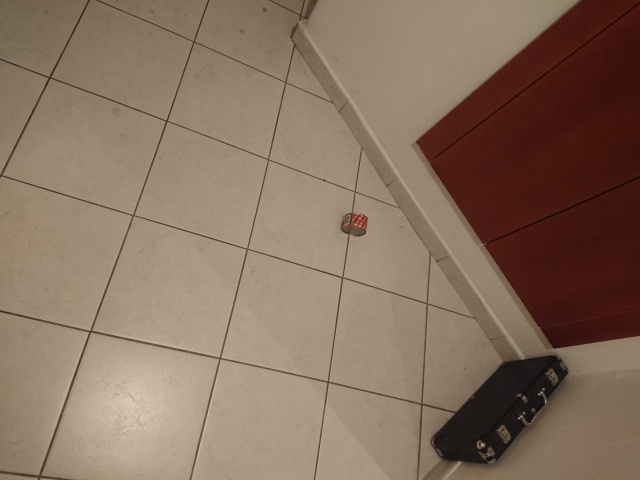Podravka Luncheon Meat 150g: (339, 211, 370, 238)
